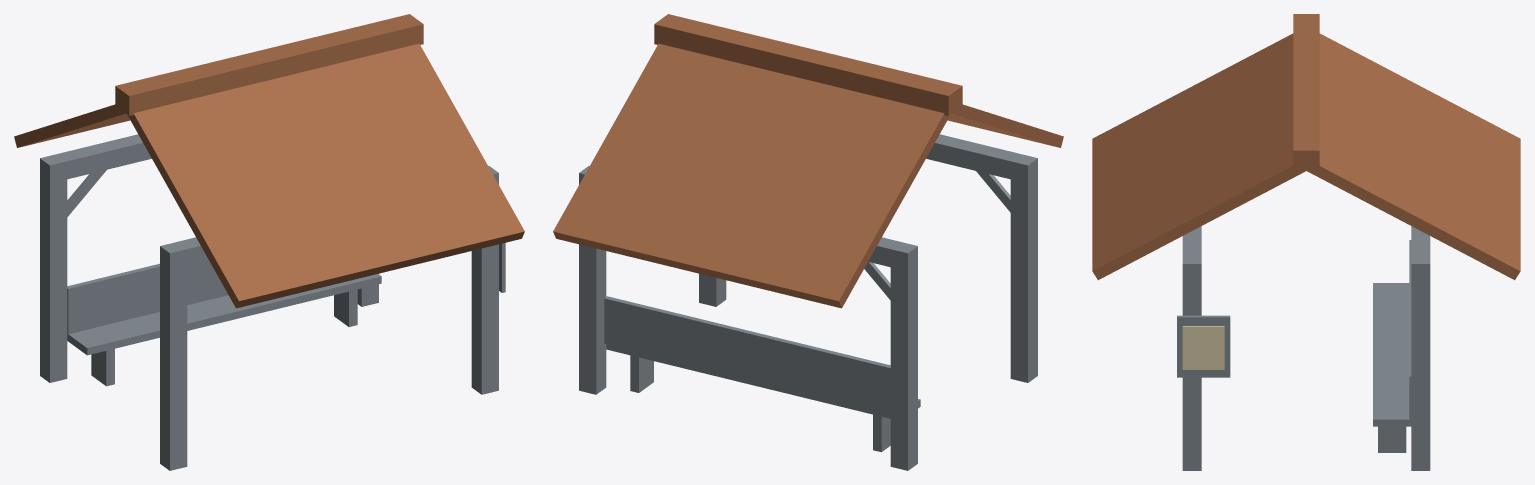
The model's file is trail_shelter.gltf.
3 renders of one model, left to right at view 1: azimuth 30°, elevation 25°; view 2: azimuth 150°, elevation 25°; view 3: azimuth 270°, elevation 25°, orthographic. The views are drawn at different scales.
Parts seen in each view (by area): view 1: trail_shelter; view 2: trail_shelter; view 3: trail_shelter.
Boxes of the visible parts, left/top/right/bottom form: trail_shelter: left=14, top=14, right=524, bottom=470; trail_shelter: left=553, top=14, right=1063, bottom=470; trail_shelter: left=1092, top=14, right=1520, bottom=470.
Bounding box in the file's own units: 3.86 × 3.62 × 4.5.
